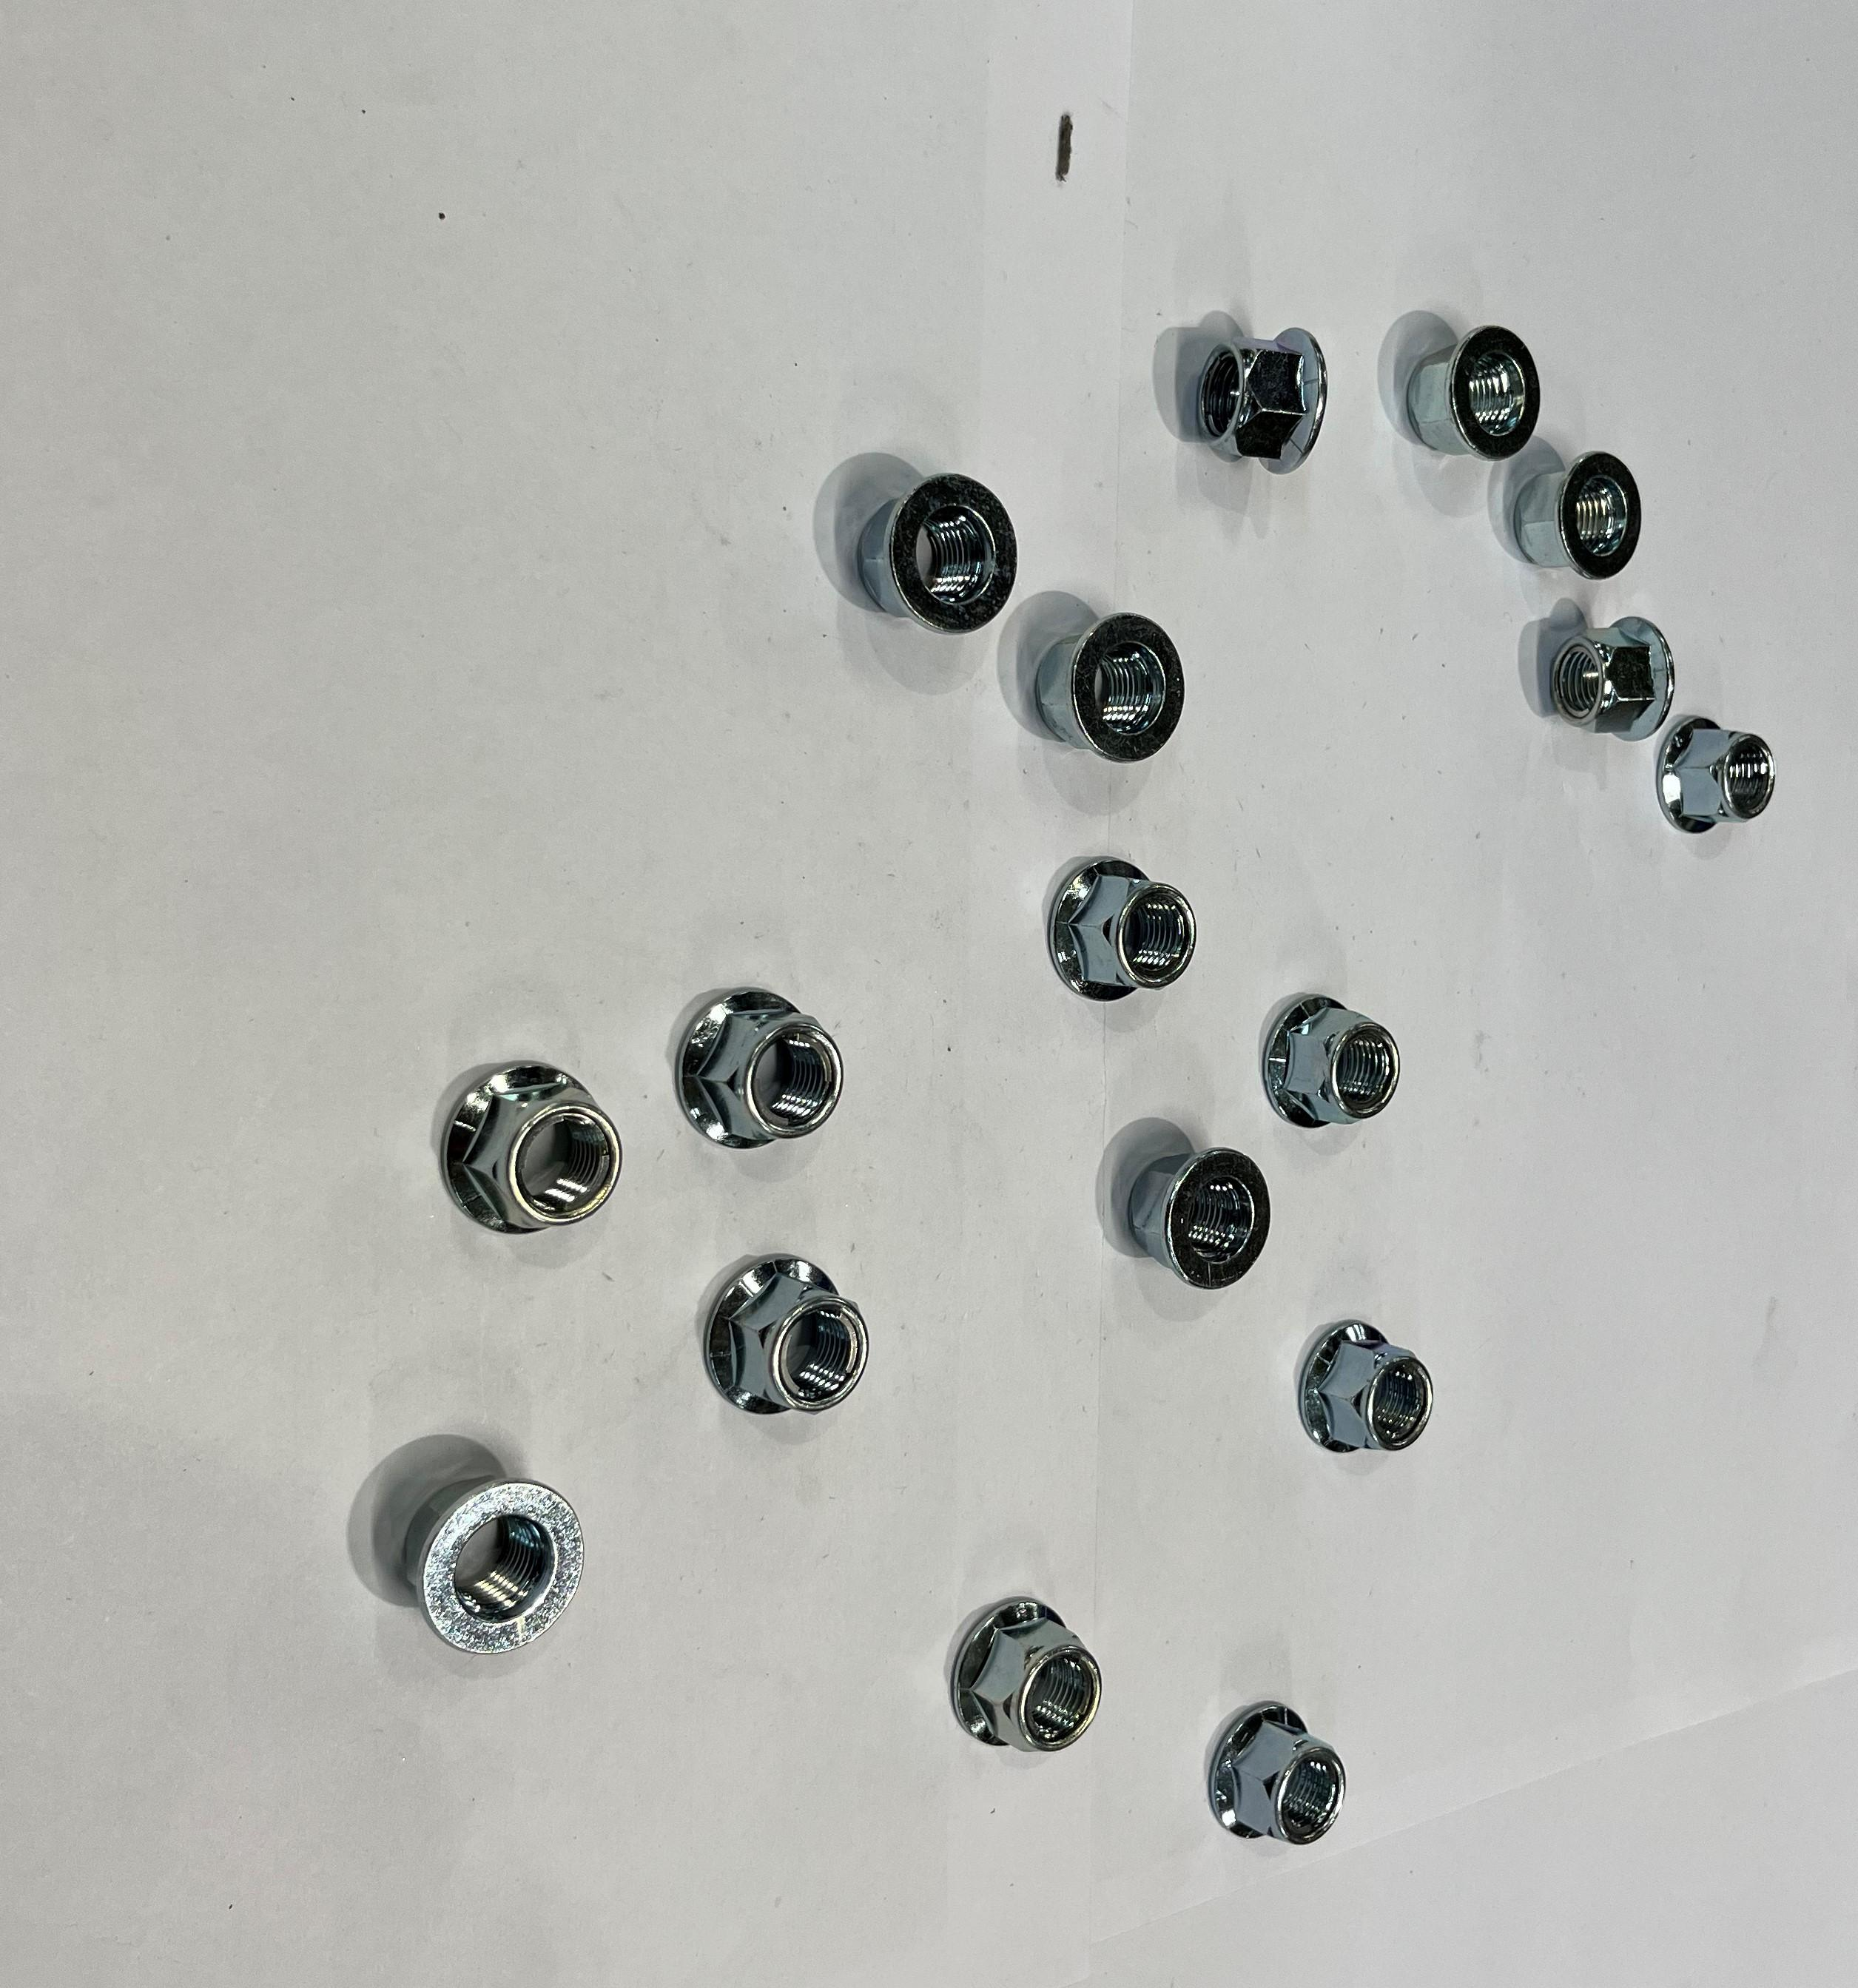Type B: (400, 1464, 585, 1662), (442, 1063, 623, 1237), (857, 475, 1018, 637), (705, 1255, 866, 1414), (950, 1599, 1109, 1756), (678, 991, 840, 1145), (1266, 1323, 1439, 1456), (1048, 857, 1200, 1002), (1037, 616, 1184, 763), (1128, 1147, 1273, 1293), (1208, 1704, 1346, 1848), (1198, 328, 1329, 475), (1264, 991, 1400, 1129), (1411, 330, 1542, 461), (1516, 447, 1641, 578), (1552, 613, 1675, 742), (1655, 714, 1776, 833)
